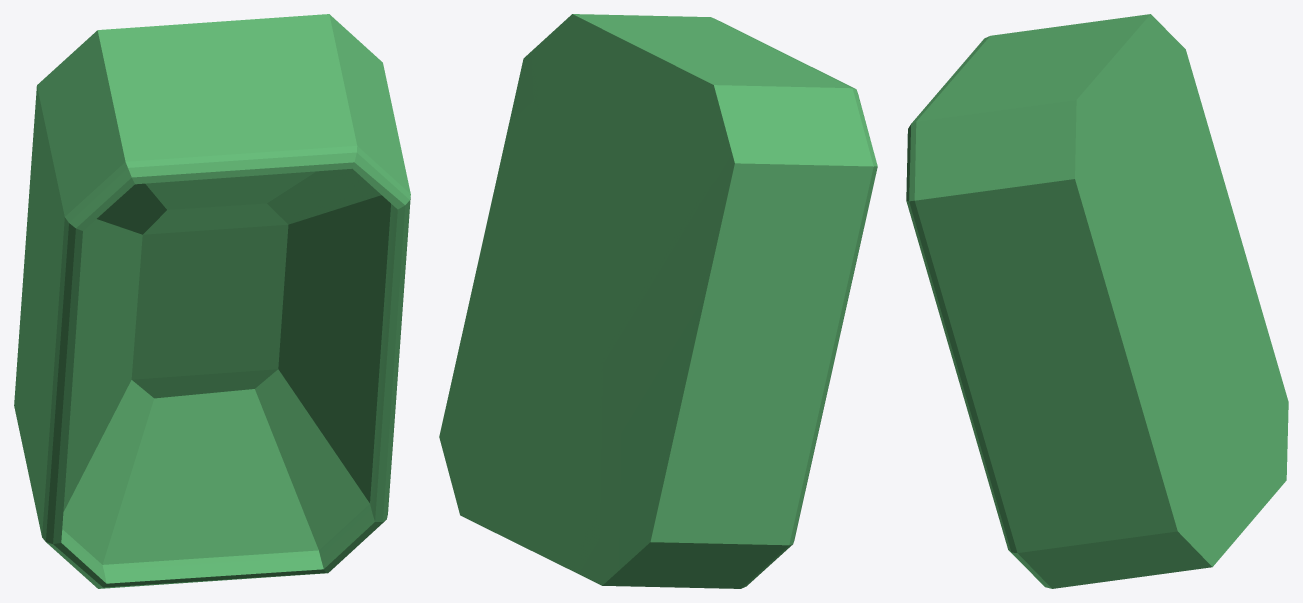
File: BL2_8shapes_Emerald_Classic_Metal.001 3.glb
3 views of the same model, side by side, from view 1: azimuth 30°, elevation 25°; view 2: azimuth 150°, elevation 25°; view 3: azimuth 270°, elevation 25° (orthographic). The views are drawn at different scales.
Visible parts, largest first — view 1: BL2_8shapes_Emerald_Classic_Metal.001; view 2: BL2_8shapes_Emerald_Classic_Metal.001; view 3: BL2_8shapes_Emerald_Classic_Metal.001.
Part boxes in pixels (x1,y1,x2,y2): BL2_8shapes_Emerald_Classic_Metal.001: (14, 14, 410, 588); BL2_8shapes_Emerald_Classic_Metal.001: (439, 14, 877, 588); BL2_8shapes_Emerald_Classic_Metal.001: (906, 14, 1288, 588).
Bounding box in the file's own units: 0.4407 × 0.6044 × 0.4219.
